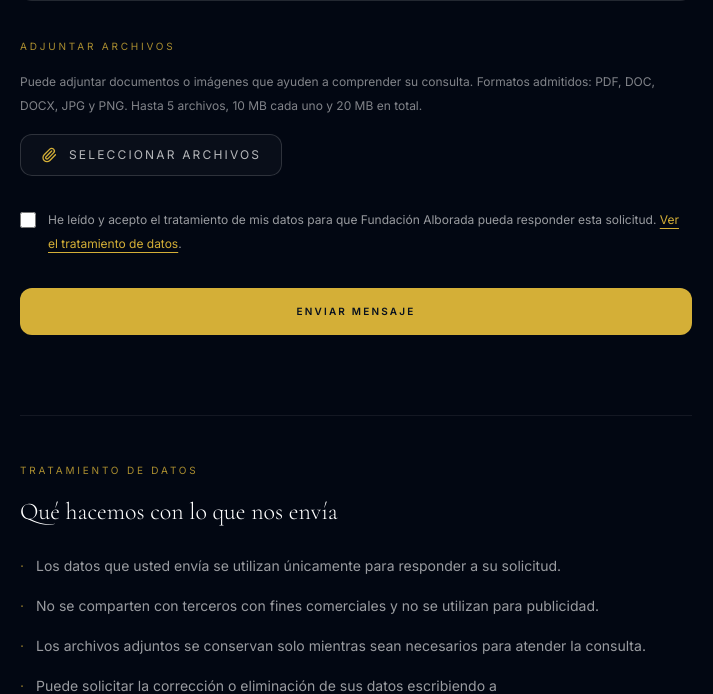
validation and submission › blocks submission and reports the missing required fields
(page scrolled)
Click the button "Enviar mensaje" at [356, 312], box [20,288,692,335]
(page scrolled)
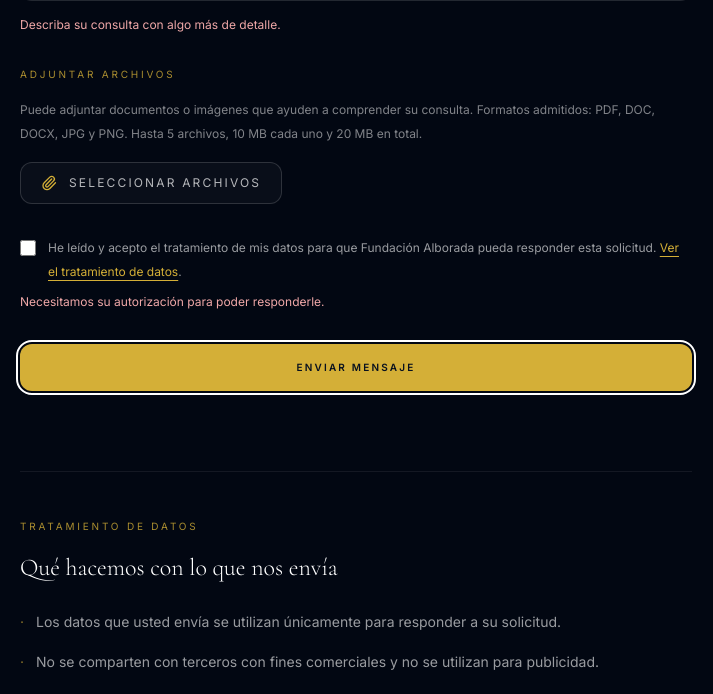
Check: the text "Necesitamos su autorización para poder responderle." is shown, box [20,294,324,309]
